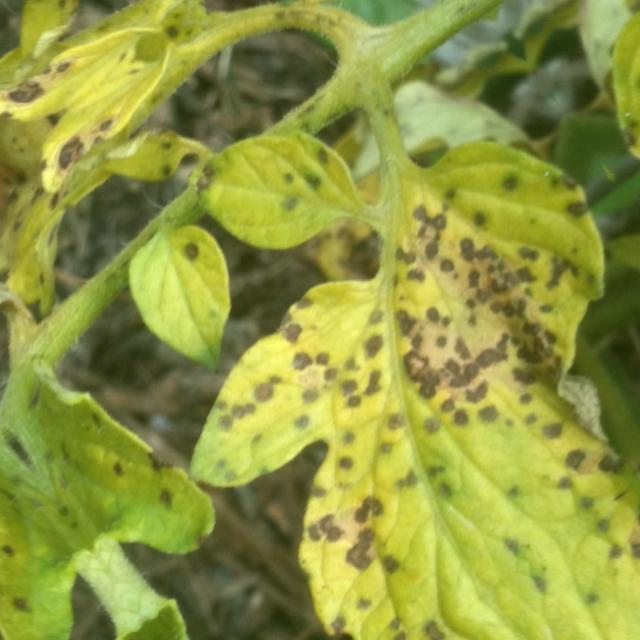Tomato Septoria leaf spot: (93, 84, 640, 640), (0, 281, 381, 640), (388, 0, 640, 441), (0, 0, 291, 315)
